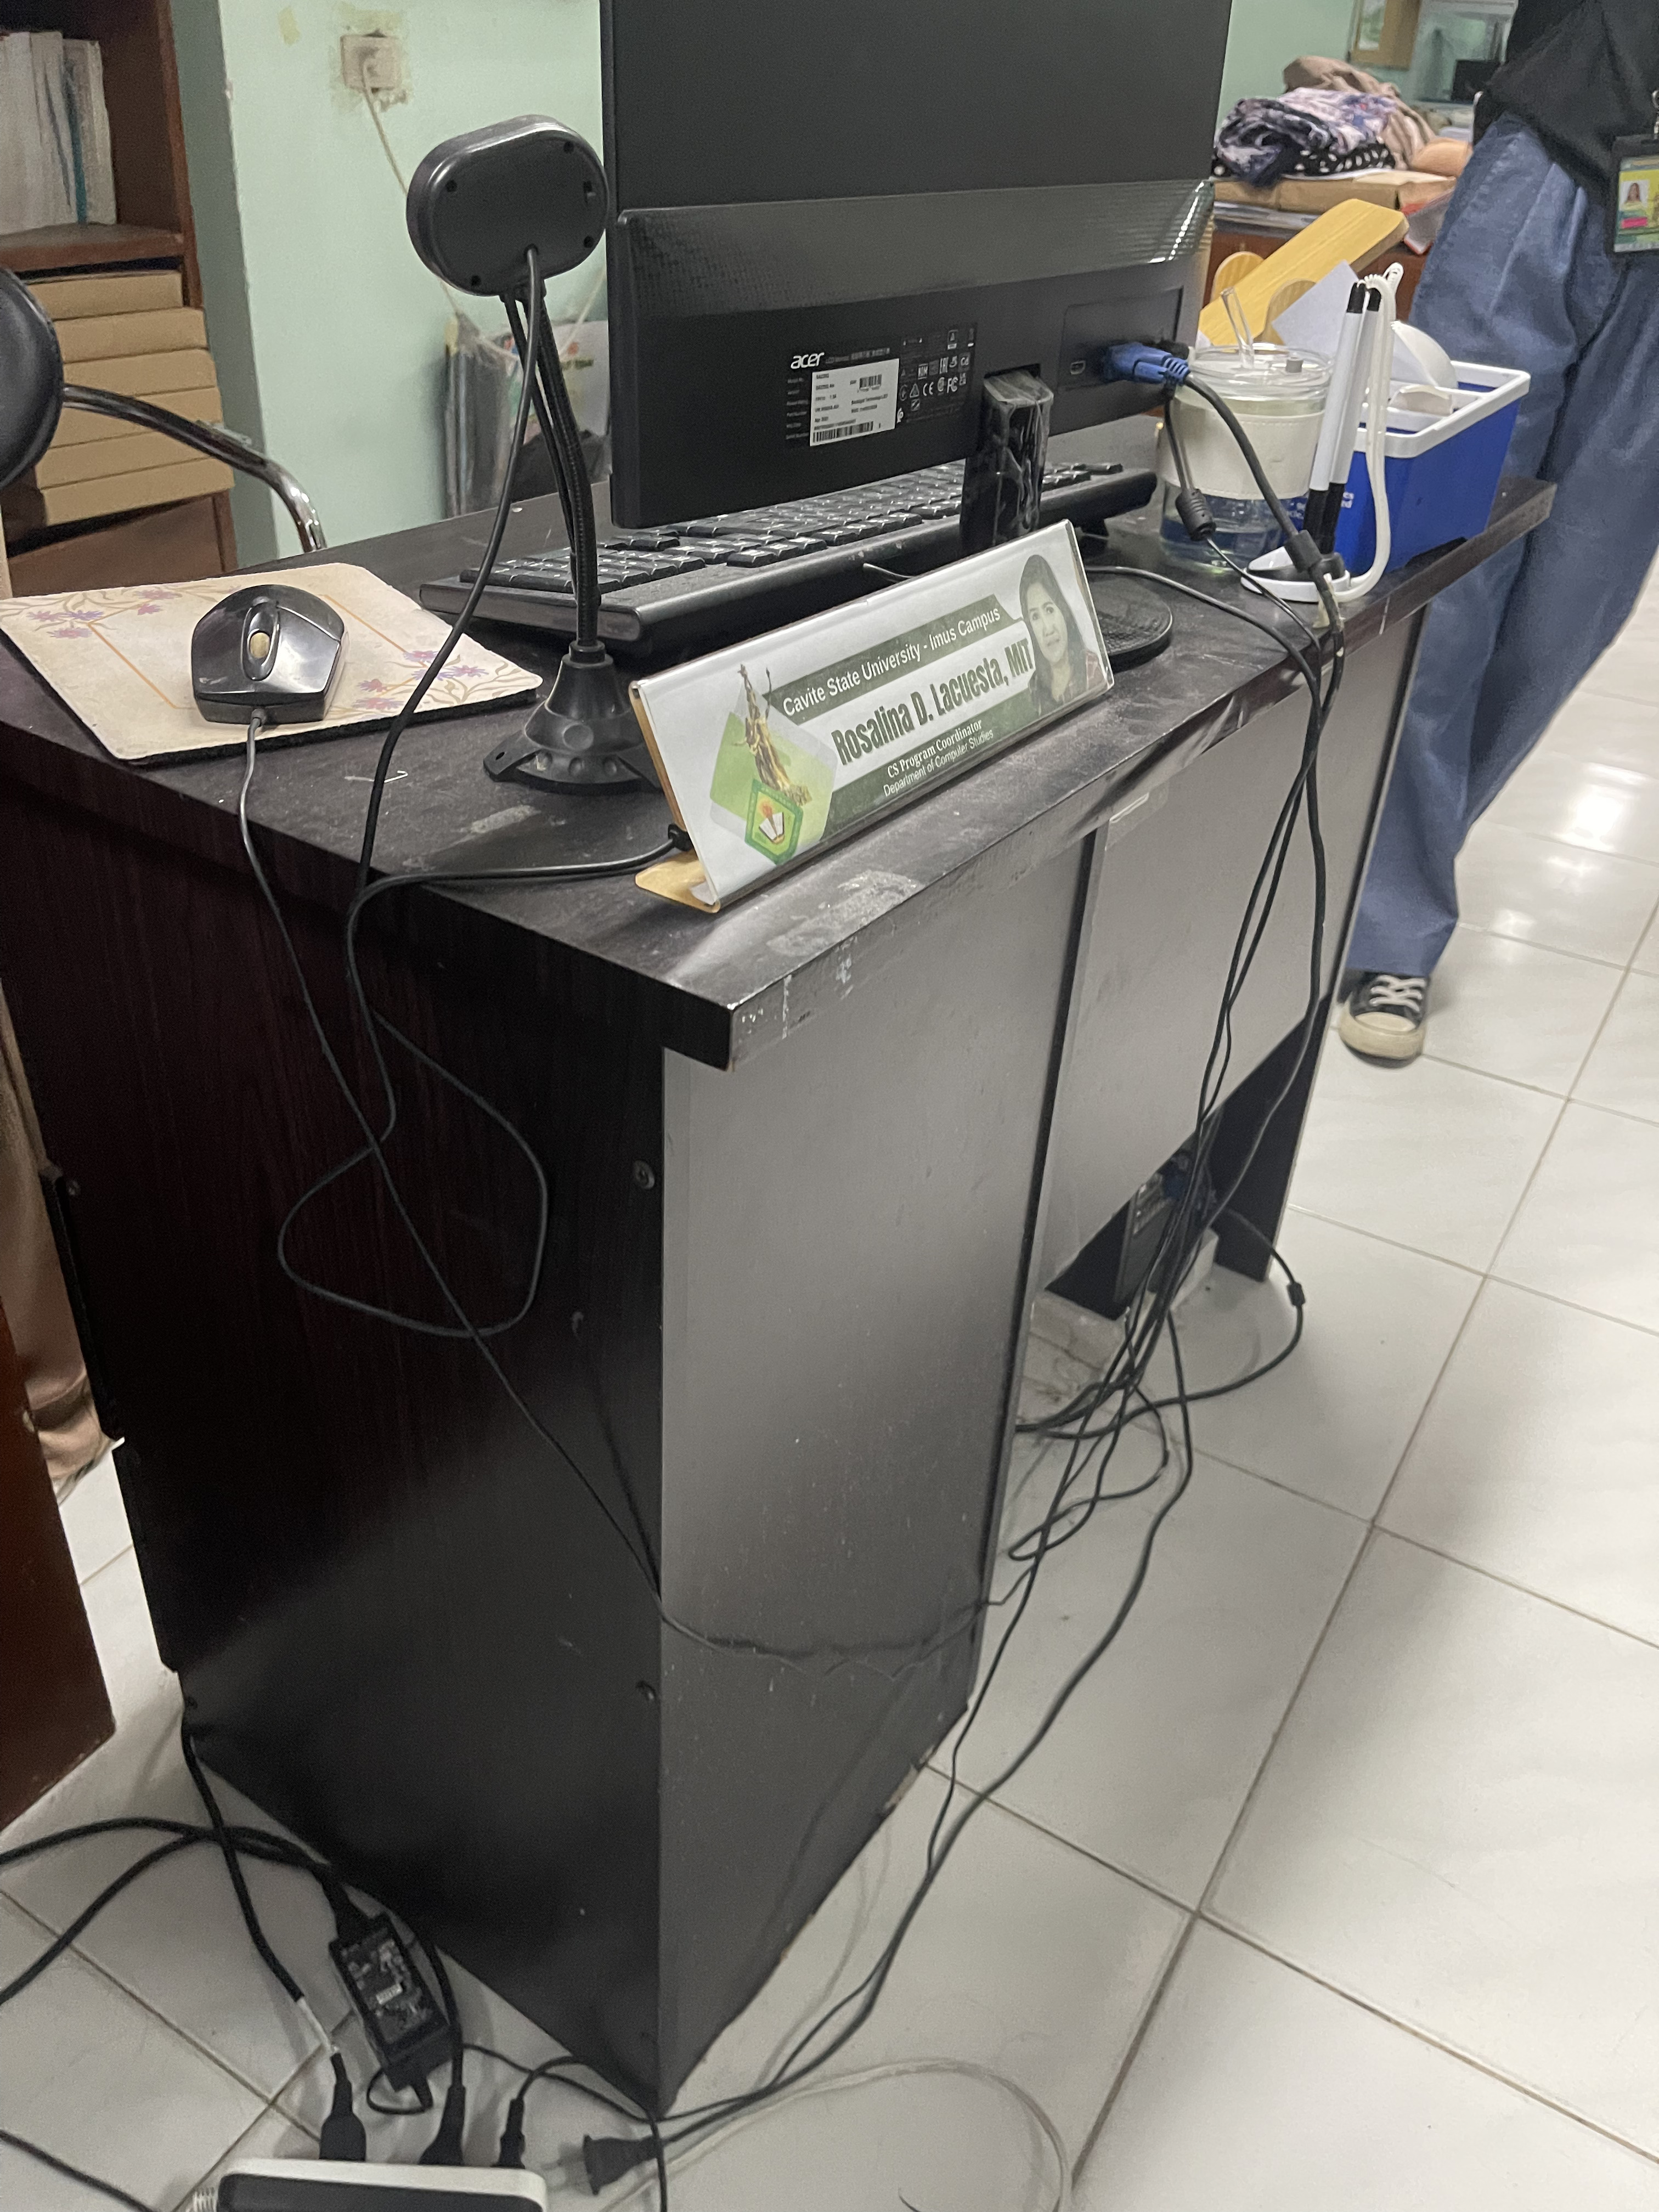table1: (3, 512, 1588, 2127)
